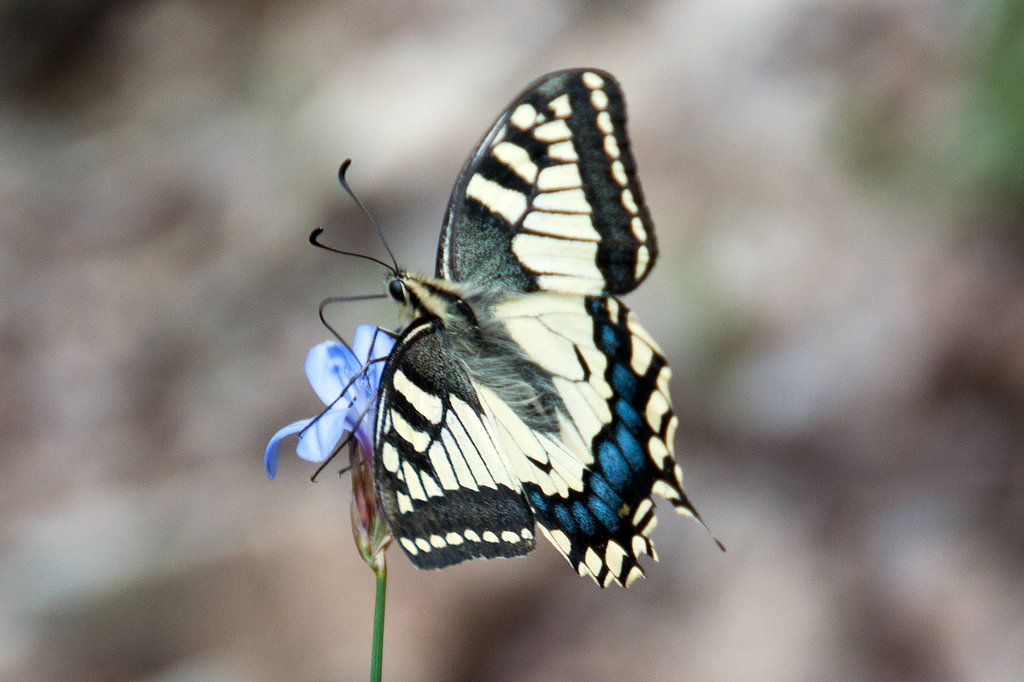Butterfly: (275, 61, 715, 601)
